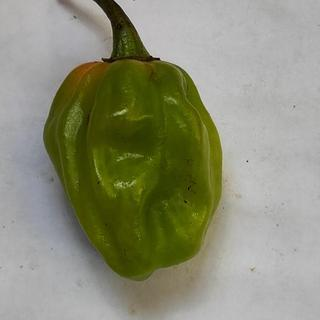Grade-A: (40, 51, 225, 282)
